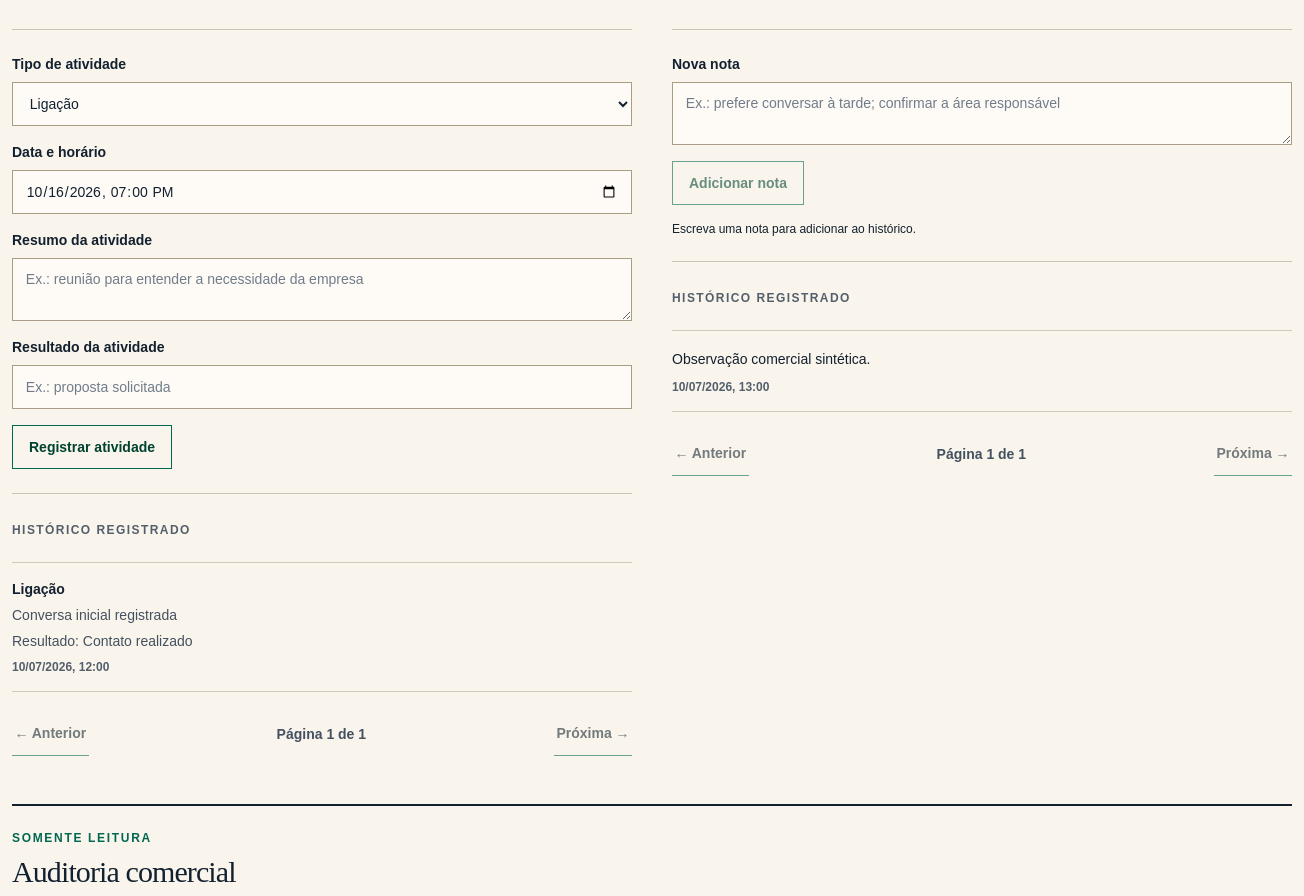
Test: commercial workspace detail page › stops displaying private data and requesting it after a activity mutation returns 401
(page scrolled)
Expected: the text "Observação comercial sintética." is shown, x1=672 y1=351 x2=870 y2=367
Click the button "Registrar atividade" at (92, 447), box x1=12 y1=425 x2=172 y2=469
(page scrolled)
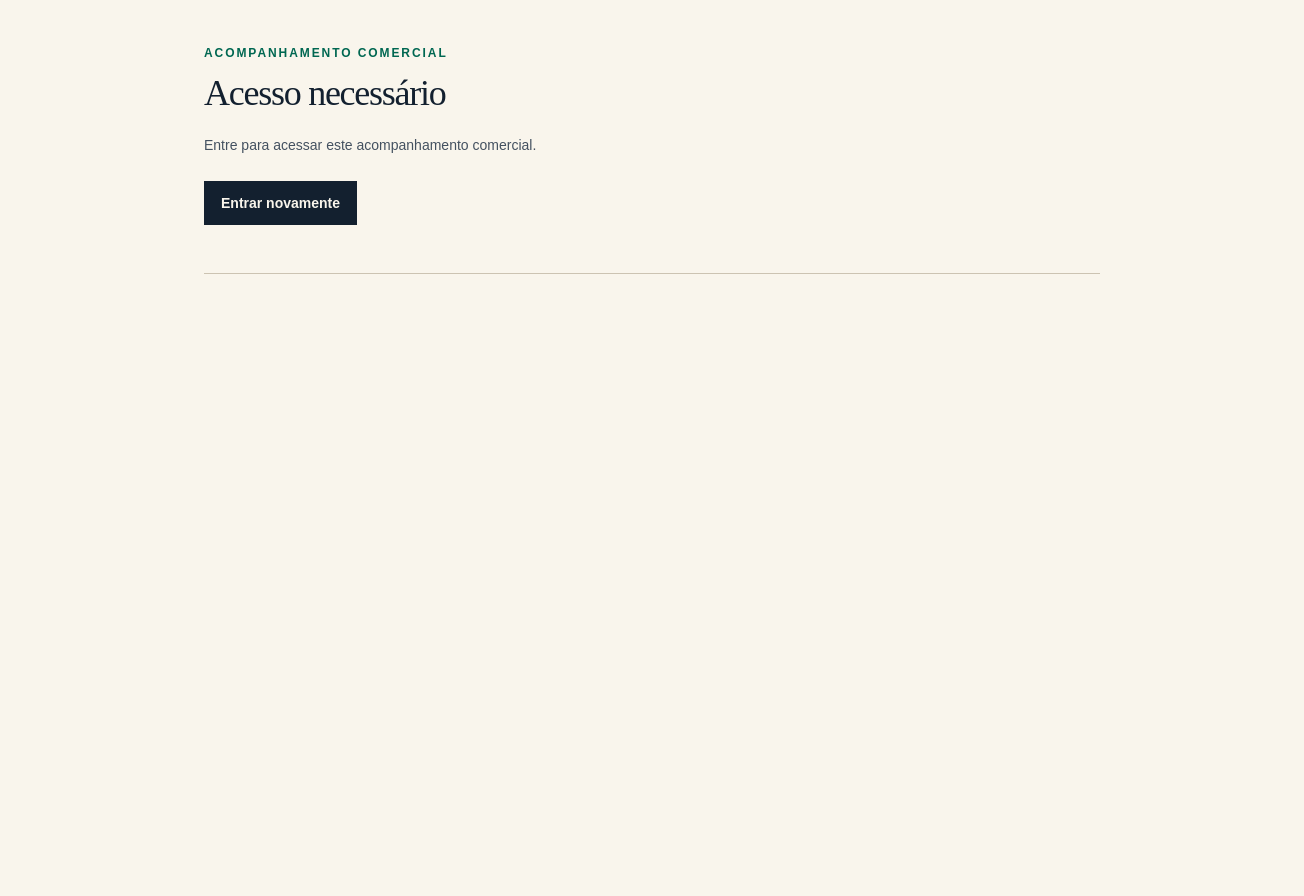
Expected: the text "Entre para acessar este acompanhamento comercial." is shown, x1=204 y1=137 x2=536 y2=153
Expected: the text "Observação comercial sintética." is gone
